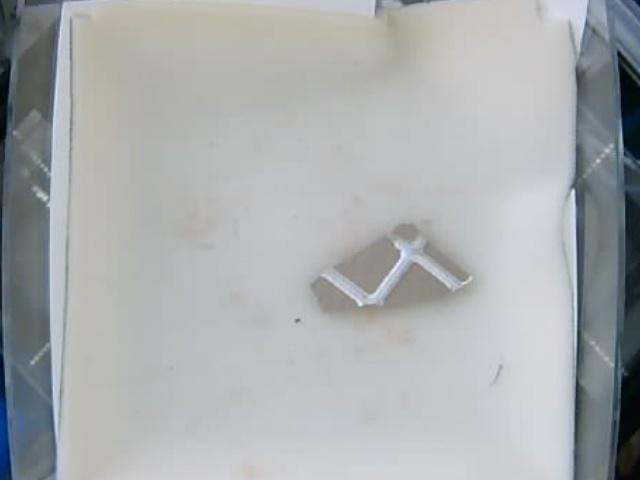China: (315, 221, 474, 312)
